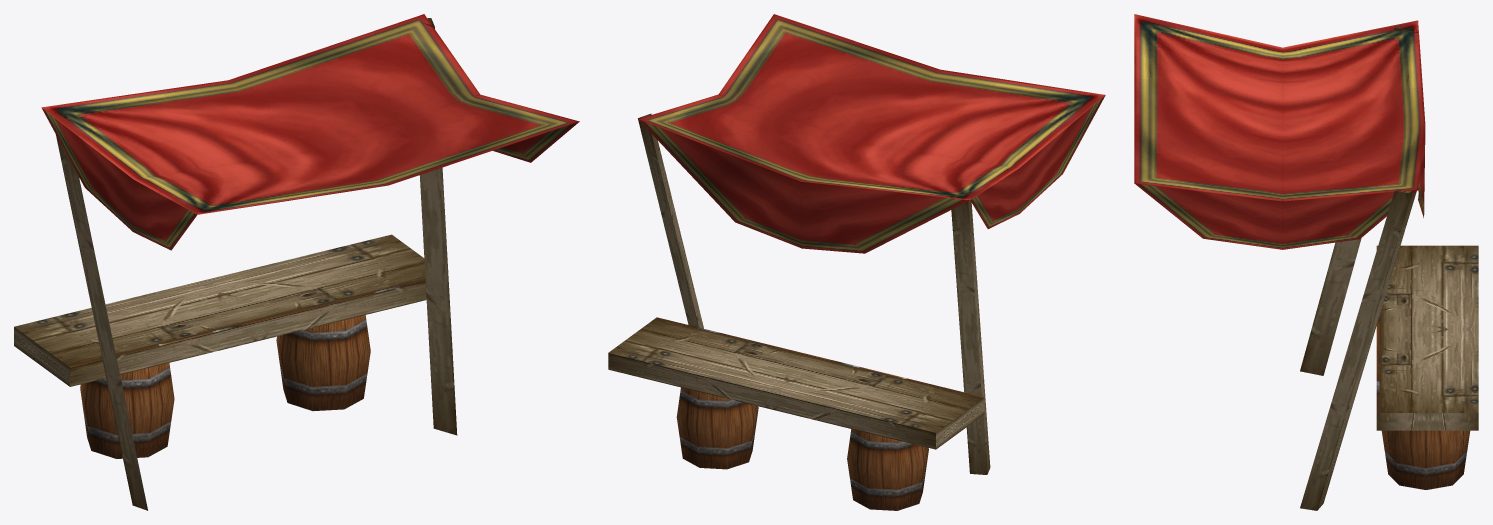
The model's file is stormwindvendorawning01.glb.
3 renders of one model, left to right at view 1: azimuth 30°, elevation 25°; view 2: azimuth 150°, elevation 25°; view 3: azimuth 270°, elevation 25°, orthographic. The views are drawn at different scales.
Bounding box in the file's own units: 3.97 × 3.66 × 3.37.
Materials: 2 (2 with a texture image).
